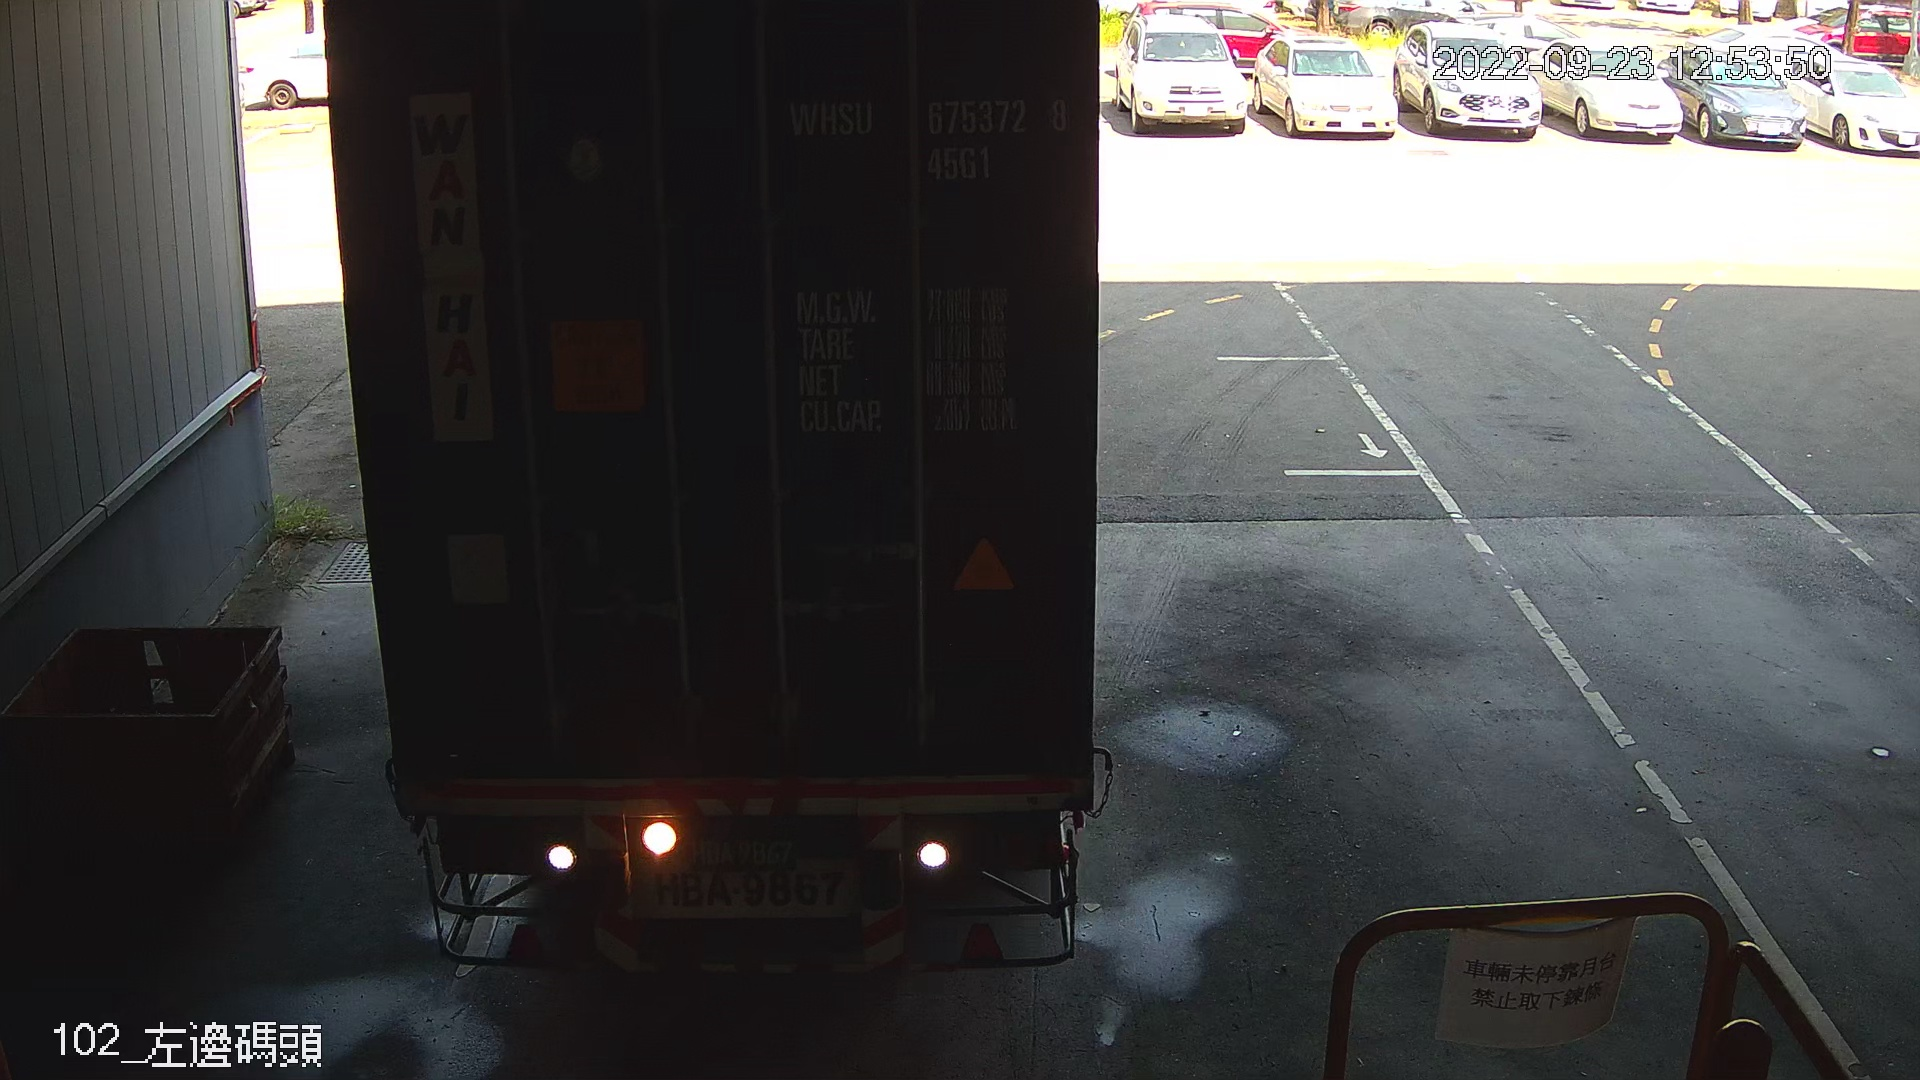container: (773, 83, 1085, 193)
